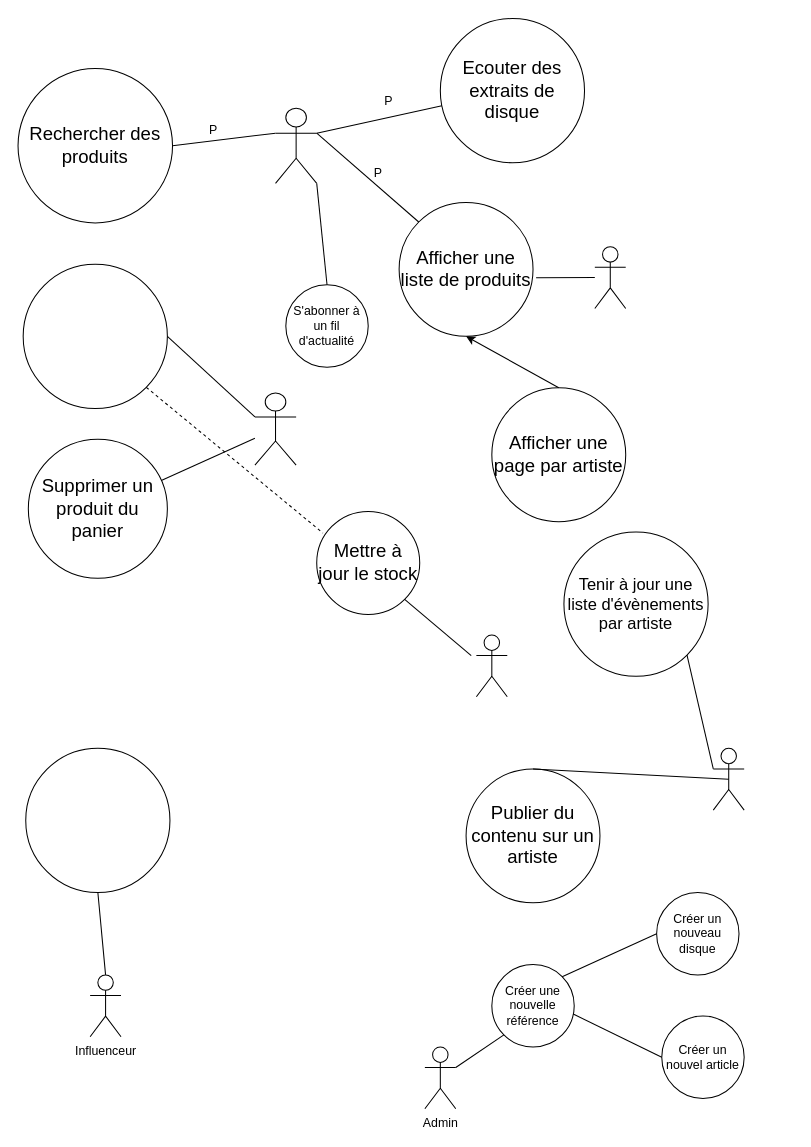
Image size: 811x1147. Some labels were removed from this diagram. The shapes that lost their labels are listed below. From the top down, each one's box as (x1, y1, x2, y2) in pixels, then its label:
(274, 107, 317, 183): Visiteur
(594, 246, 626, 308): Documentaliste
(22, 263, 167, 408): Acheter un produit
(254, 392, 296, 465): Client
(475, 634, 507, 697): Gestionnaire de stock
(712, 747, 744, 810): Service communication
(25, 747, 170, 892): Recommander des artistes par proximité
